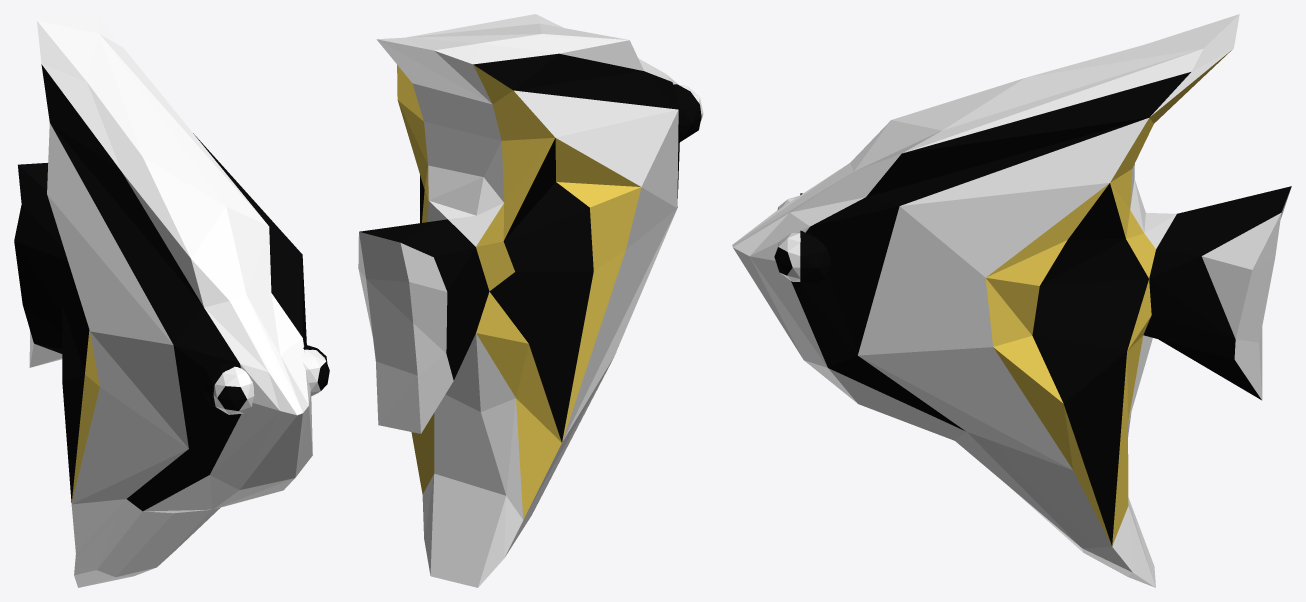
Rendered from PezAngel.fbx.
3 renders of one model, left to right at view 1: azimuth 30°, elevation 25°; view 2: azimuth 150°, elevation 25°; view 3: azimuth 270°, elevation 25°, orthographic. The views are drawn at different scales.
Parts seen in each view (by area): view 1: Cuerpo_AngelFish; view 2: Cuerpo_AngelFish; view 3: Cuerpo_AngelFish.
Part boxes in pixels (x1,y1,x2,y2): Cuerpo_AngelFish: (14, 14, 329, 587); Cuerpo_AngelFish: (358, 14, 703, 587); Cuerpo_AngelFish: (732, 14, 1291, 587).
Size of the model in its own units: 105 by 292 by 268.
